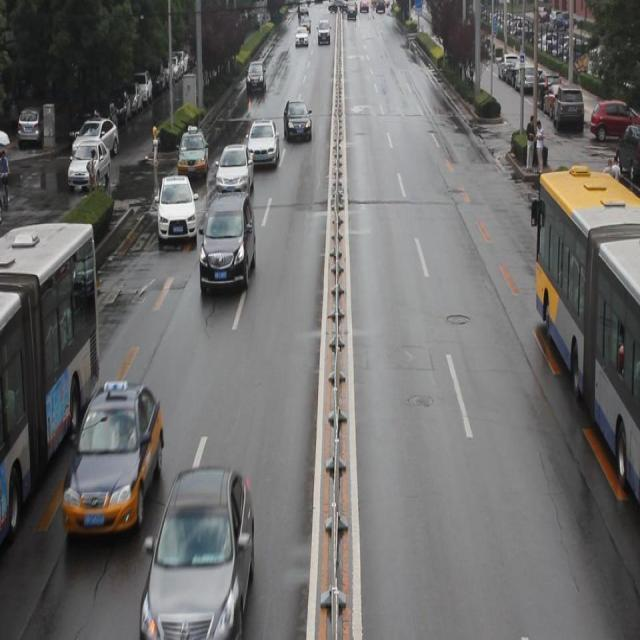car: (140, 467, 252, 640), (66, 386, 161, 536), (202, 196, 256, 293), (156, 172, 197, 249), (214, 144, 255, 202), (245, 120, 279, 173), (178, 126, 207, 184), (284, 103, 312, 138)
van: (530, 176, 640, 506), (1, 227, 102, 528)
